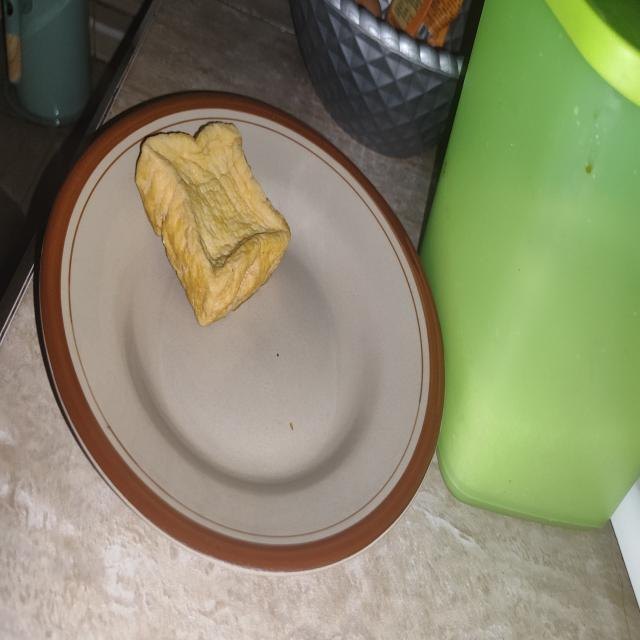tahu_goreng: (136, 122, 290, 325)
